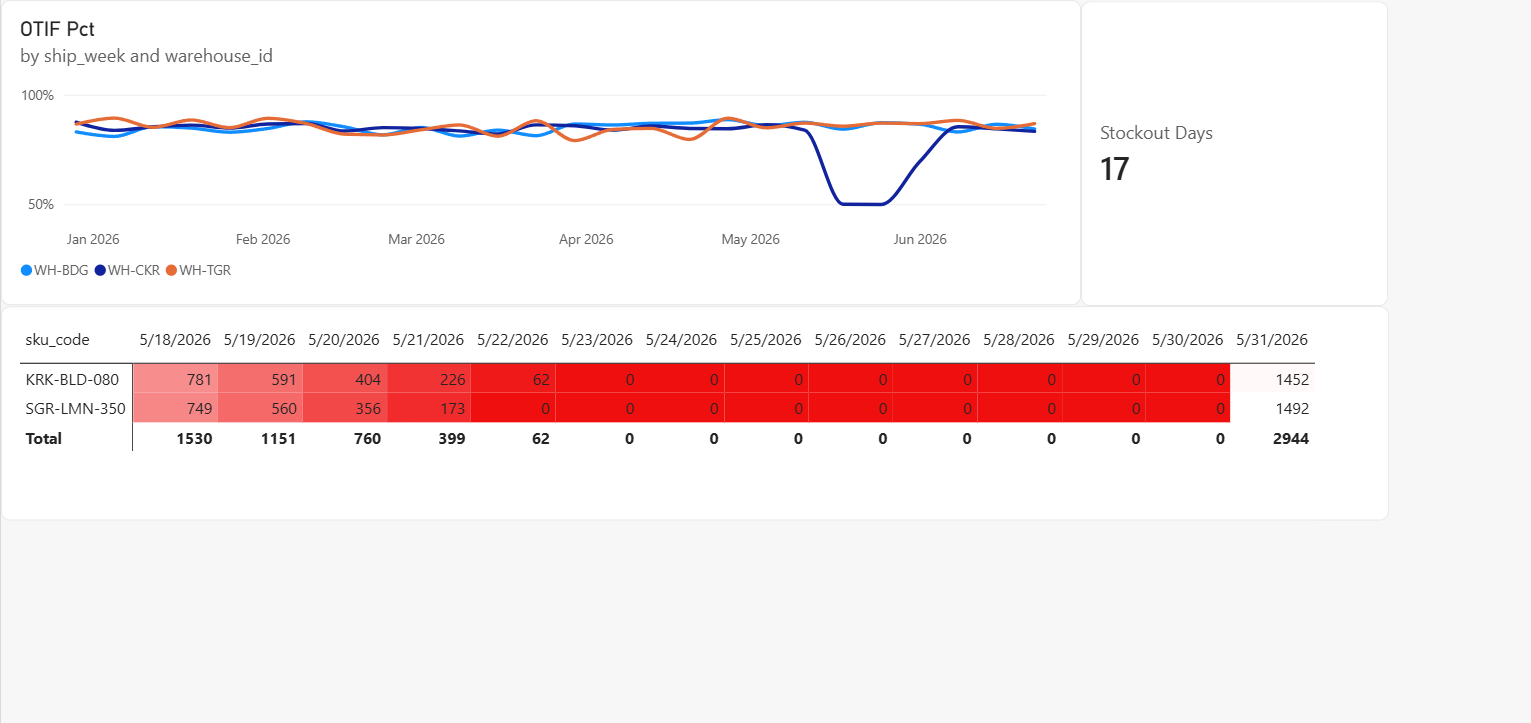

The page's visual inventory and layout, read from the dashboard file:
{"tool":"powerbi","page":{"name":"Supply Chain & OTIF","canvas":[1920,1080],"ordinal":2},"visuals":[{"type":"lineChart","fields":{"Category":["fct_otif_shipments.ship_week"],"Series":["fct_otif_shipments.warehouse_id"],"Y":["fct_otif_shipments.OTIF Pct"]},"box":[0,0,288.8,271.2],"z":0},{"type":"pivotTable","fields":{"Columns":["Calendar.Date"],"Rows":["dim_sku.sku_code"],"Values":["Sum(fct_inventory_daily.qty_on_hand)"]},"box":[0,271.7,1233.3,190],"z":1000},{"type":"cardVisual","fields":{"Data":["fct_inventory_daily.Stockout Days"]},"box":[288.8,1.2,276.2,271.2],"z":2000}]}

Visuals, with their boxes on the page's 1920x1080 design canvas (x1, y1, x2, y2). These are canvas units, not pixel positions in the 1531x723 screenshot, which may show the page scaled, cropped or inside an application window:
lineChart - fct_otif_shipments.ship_week x fct_otif_shipments.warehouse_id: {"left": 0, "top": 0, "right": 289, "bottom": 271}
pivotTable - Calendar.Date x dim_sku.sku_code: {"left": 0, "top": 272, "right": 1233, "bottom": 462}
cardVisual - fct_inventory_daily.Stockout Days: {"left": 289, "top": 1, "right": 565, "bottom": 272}
